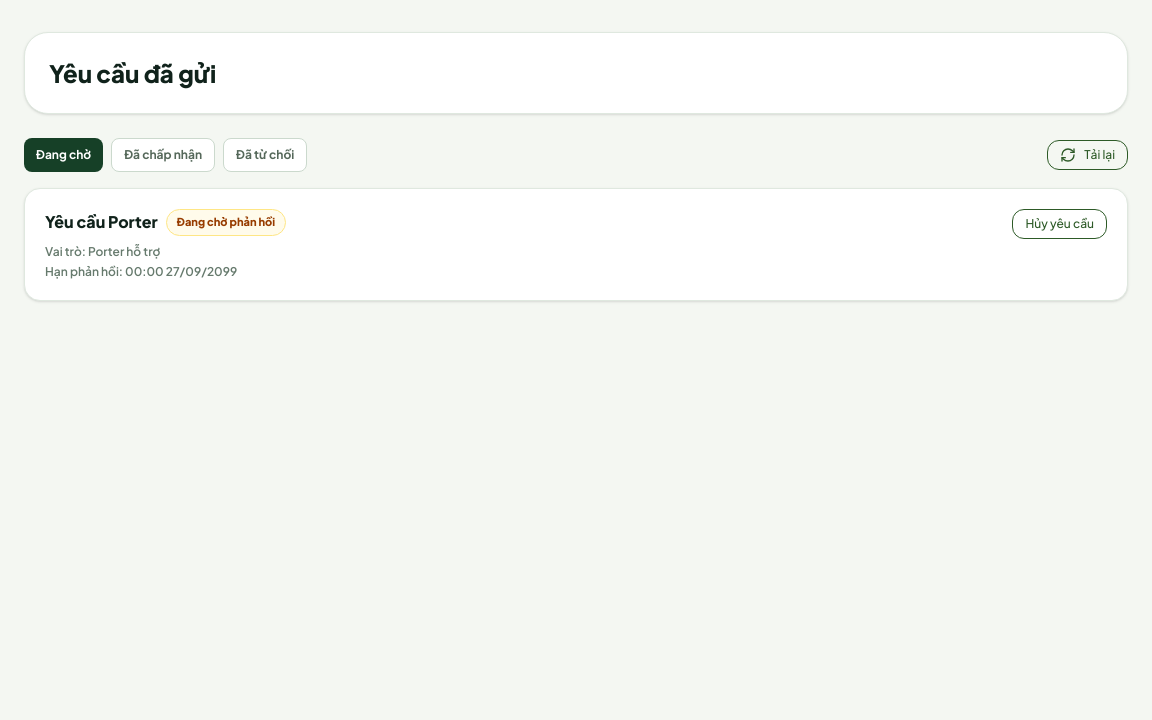
Test: HostPorterRequestsPage › refreshes a request accepted by the Porter before the Host cancellation
The image size is (1152, 720).
Click the button "Hủy yêu cầu" at [1060, 224], box [1012, 209, 1107, 239]
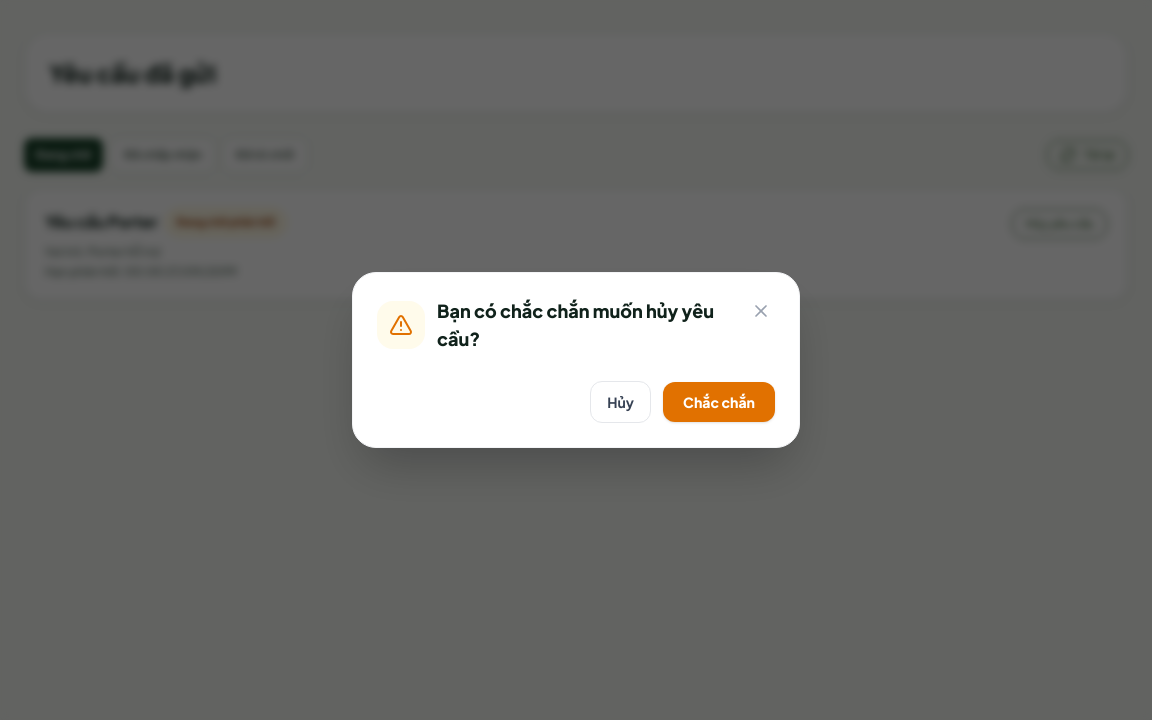
Click the button with test id "confirm-modal-submit" at [719, 402], box [663, 382, 775, 422]
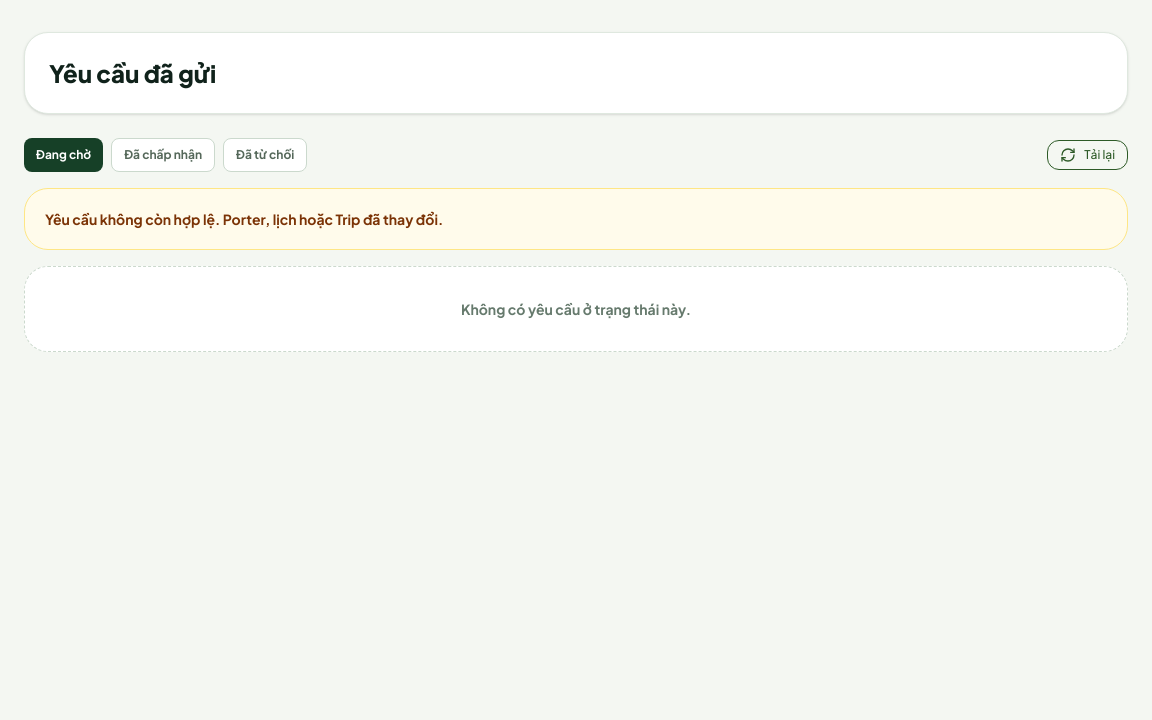
Result: the element with test id "confirm-modal" is gone
Result: the message shows "Yêu cầu không còn hợp lệ" at [45, 210, 443, 228]
Click the button "Đã chấp nhận" at [163, 155], box [111, 138, 215, 172]
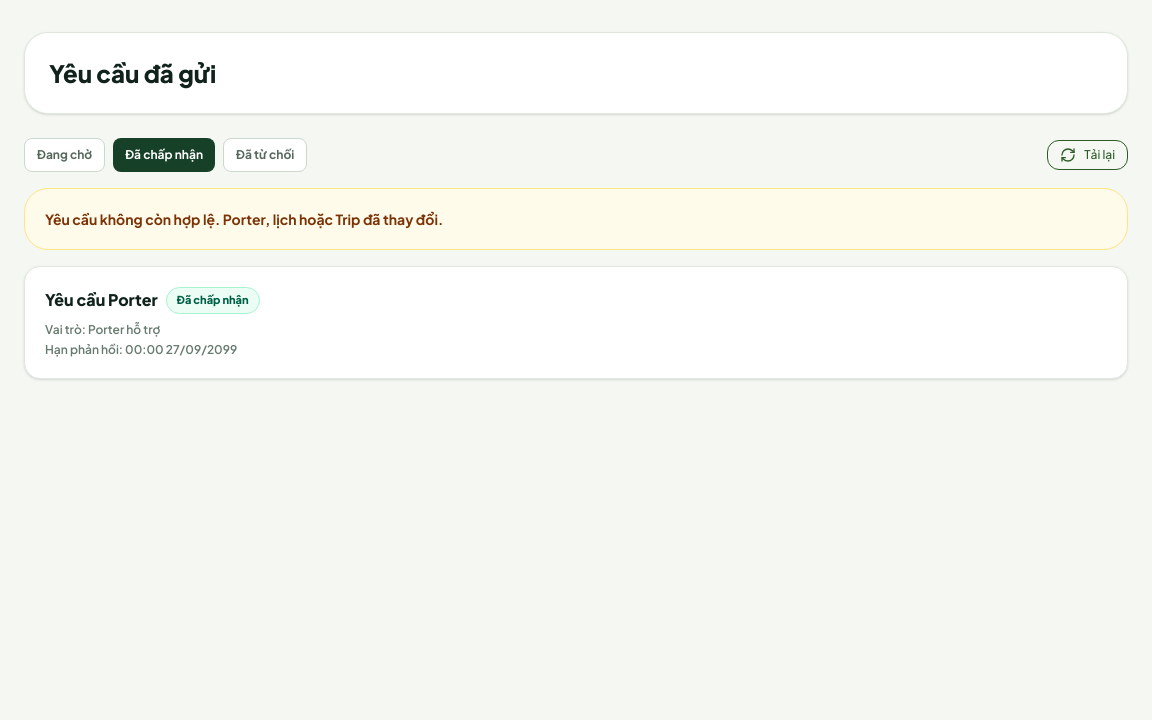
Expected: the button "Hủy yêu cầu" is not shown
Result: the text "Đã chấp nhận" is shown at [166, 287, 260, 314]
